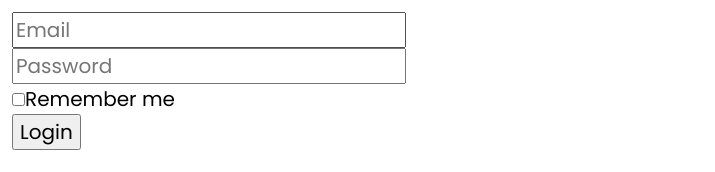
Scenario: Matches DOM Snapshot › Does not allow empty field values
The width and height of the screenshot is (715, 172).
What coordinates should you click on to do the following:
click the button "Login"
I would click on:
 (46, 132)
Its box is left=12, top=114, right=81, bottom=150.
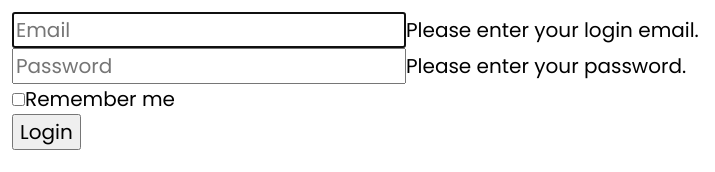
expect the text "Please enter your login email." is shown: met, box left=406, top=16, right=699, bottom=44
expect the text "Please enter your password." is shown: met, box left=406, top=52, right=686, bottom=80
